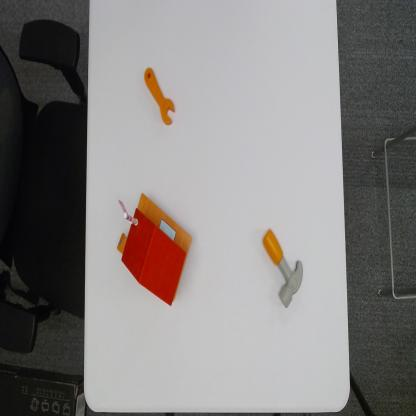Hammer: (262, 227, 304, 309)
House: (116, 188, 194, 309)
Screwdriver: (142, 63, 176, 128)
